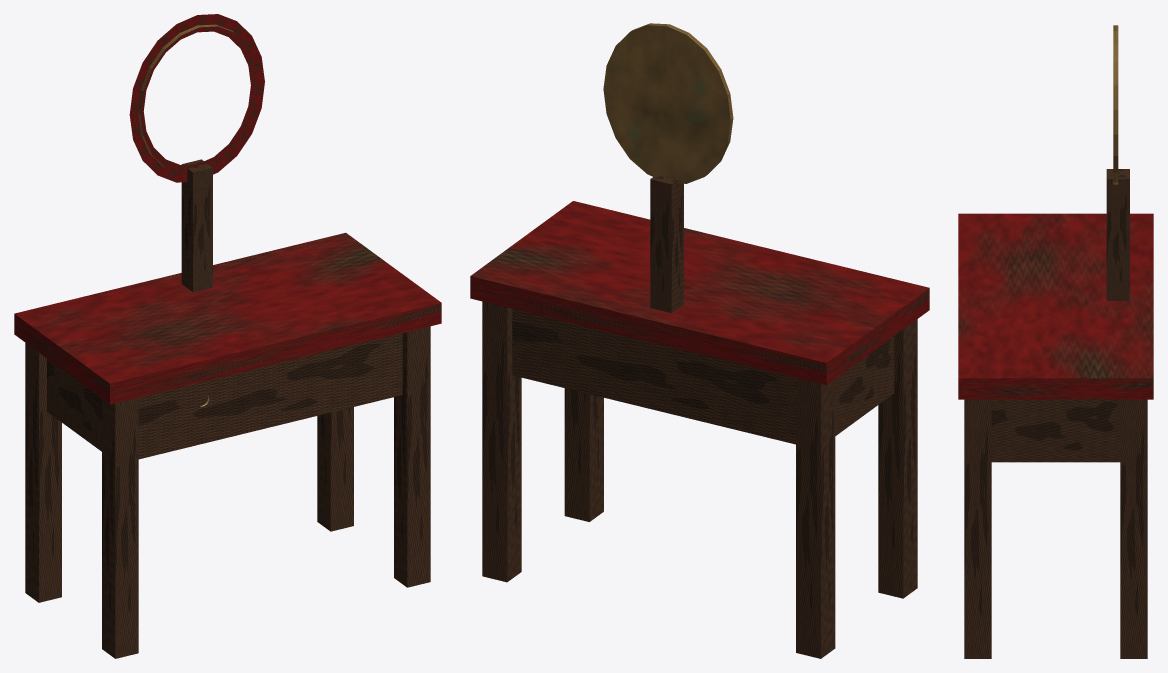
File: dresser.glb
The picture shows the model from 3 angles, left to right: view 1: azimuth 30°, elevation 25°; view 2: azimuth 150°, elevation 25°; view 3: azimuth 270°, elevation 25°; orthographic projection. The views are drawn at different scales.
Parts seen in each view (by area): view 1: Top, BodyF, Leg_-44_20, Leg_44_20, Leg_-44_-20, MirrorFrame, Leg_44_-20, MirrorPost; view 2: Top, BodyF, MirrorGlass, Leg_-44_-20, Leg_44_-20, Leg_-44_20, Leg_44_20, MirrorPost; view 3: Top, BodyF, Leg_44_-20, Leg_44_20, MirrorPost, MirrorGlass.
Part boxes in pixels (x1=…): Top: x1=14, y1=232, x2=441, y2=404; BodyF: x1=47, y1=333, x2=402, y2=459; Leg_-44_20: x1=102, y1=397, x2=138, y2=658; Leg_44_20: x1=394, y1=326, x2=430, y2=587; Leg_-44_-20: x1=25, y1=343, x2=61, y2=602; MirrorFrame: x1=129, y1=14, x2=264, y2=182; Leg_44_-20: x1=317, y1=407, x2=353, y2=531; MirrorPost: x1=181, y1=159, x2=212, y2=292; Top: x1=470, y1=201, x2=929, y2=385; BodyF: x1=512, y1=309, x2=894, y2=444; MirrorGlass: x1=603, y1=23, x2=733, y2=183; Leg_-44_-20: x1=796, y1=378, x2=835, y2=658; Leg_44_-20: x1=482, y1=301, x2=521, y2=582; Leg_-44_20: x1=878, y1=319, x2=917, y2=598; Leg_44_20: x1=564, y1=388, x2=603, y2=521; MirrorPost: x1=650, y1=175, x2=683, y2=312; Top: x1=958, y1=213, x2=1153, y2=399; BodyF: x1=991, y1=399, x2=1120, y2=462; Leg_44_-20: x1=1120, y1=399, x2=1147, y2=658; Leg_44_20: x1=964, y1=399, x2=991, y2=658; MirrorPost: x1=1106, y1=169, x2=1129, y2=300; MirrorGlass: x1=1113, y1=25, x2=1118, y2=184.
Size of what is drawn, in the model's own units: 1 by 1.58 by 0.5.
Materials: 4 (3 with a texture image).
